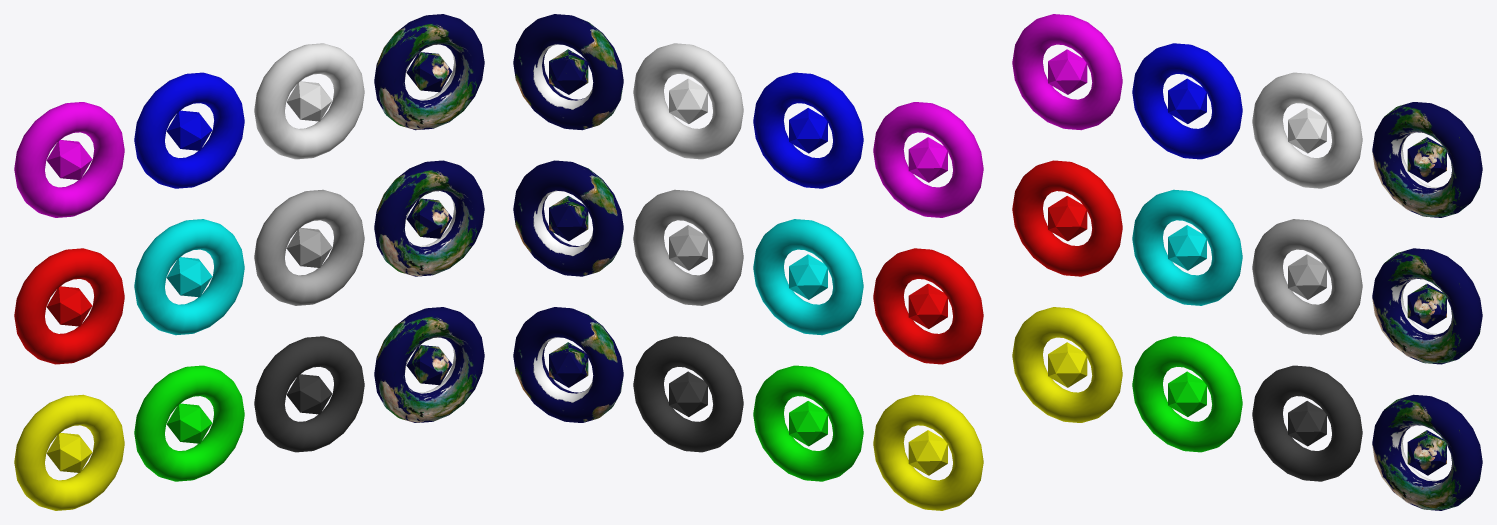
The model's file is ShaderTesters5.fbx.
The picture shows the model from 3 angles, left to right: view 1: azimuth 30°, elevation 25°; view 2: azimuth 150°, elevation 25°; view 3: azimuth 330°, elevation 25°; orthographic projection.
Visible parts, largest first — view 1: pTorus67; view 2: pTorus67; view 3: pTorus67.
Part boxes in pixels (x1,y1,x2,y2): pTorus67: [14, 14, 484, 510]; pTorus67: [513, 14, 983, 510]; pTorus67: [1012, 14, 1482, 510].
Size of the model in its own units: 11.67 by 9.67 by 1.
Materials: 12 (3 with a texture image).
